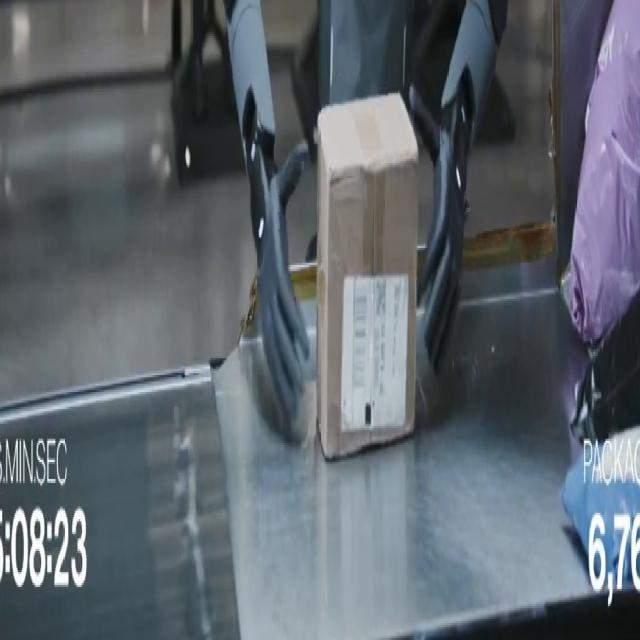package: (317, 94, 418, 459), (571, 0, 639, 343), (551, 0, 613, 269), (562, 429, 639, 591), (571, 293, 639, 442)
